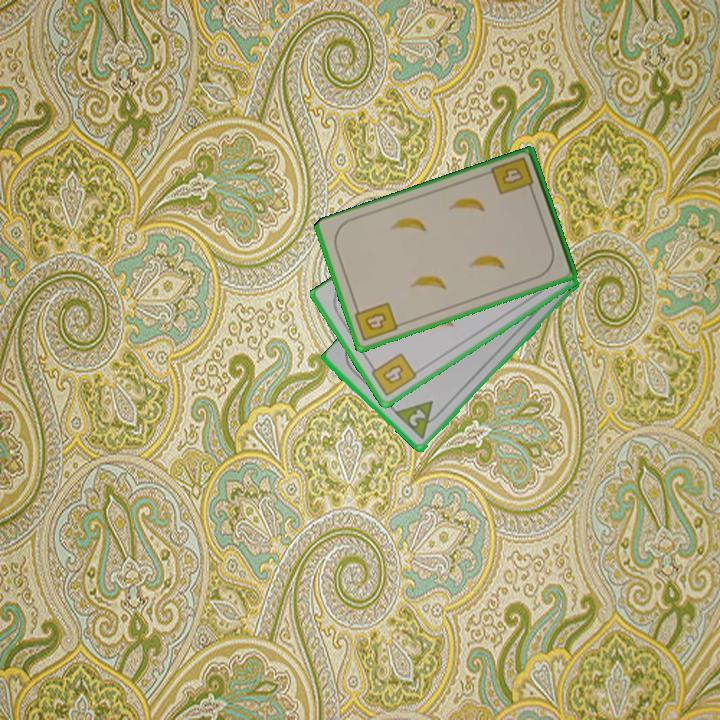2p: (392, 397, 446, 443)
4b: (366, 349, 420, 399), (351, 299, 400, 344), (488, 154, 537, 199)
